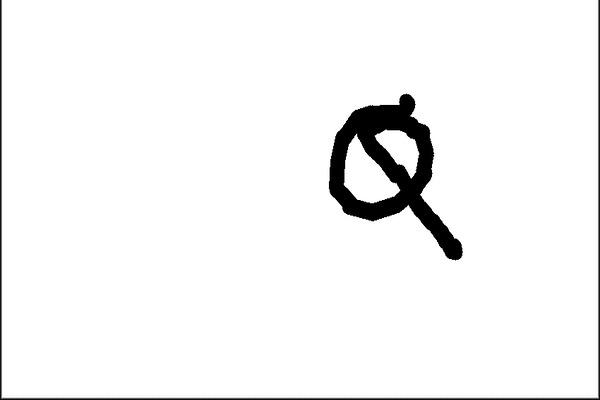Q: (314, 85, 467, 270)
